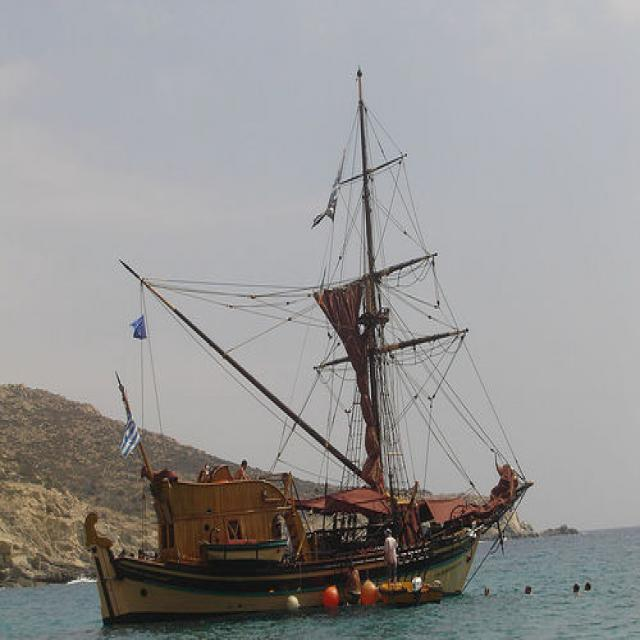Ship: (75, 81, 534, 613)
